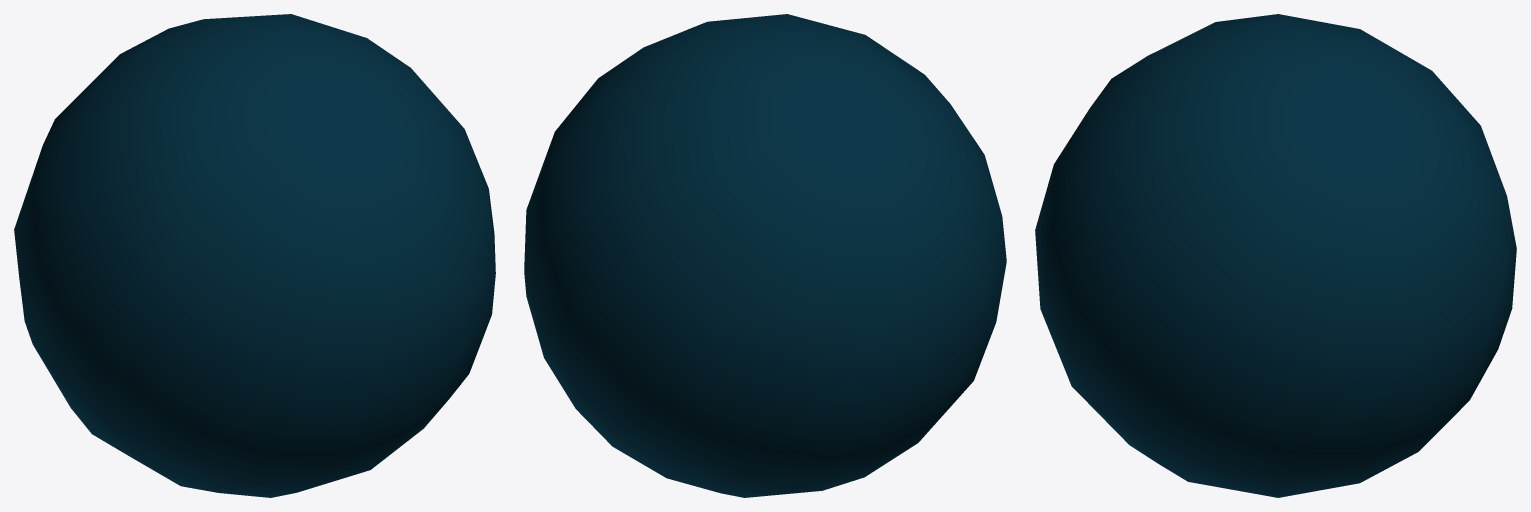
File: BallGunBullet.fbx
The picture shows the model from 3 angles, left to right: view 1: azimuth 30°, elevation 25°; view 2: azimuth 150°, elevation 25°; view 3: azimuth 270°, elevation 25°; orthographic projection.
Visible parts, largest first — view 1: BallGunBullet; view 2: BallGunBullet; view 3: BallGunBullet.
Part boxes in pixels (left/top/right/bottom): BallGunBullet: left=14, top=14, right=495, bottom=497; BallGunBullet: left=524, top=14, right=1006, bottom=497; BallGunBullet: left=1035, top=14, right=1516, bottom=497.
Size of what is drawn, in the model's own units: 4 by 4 by 4.
